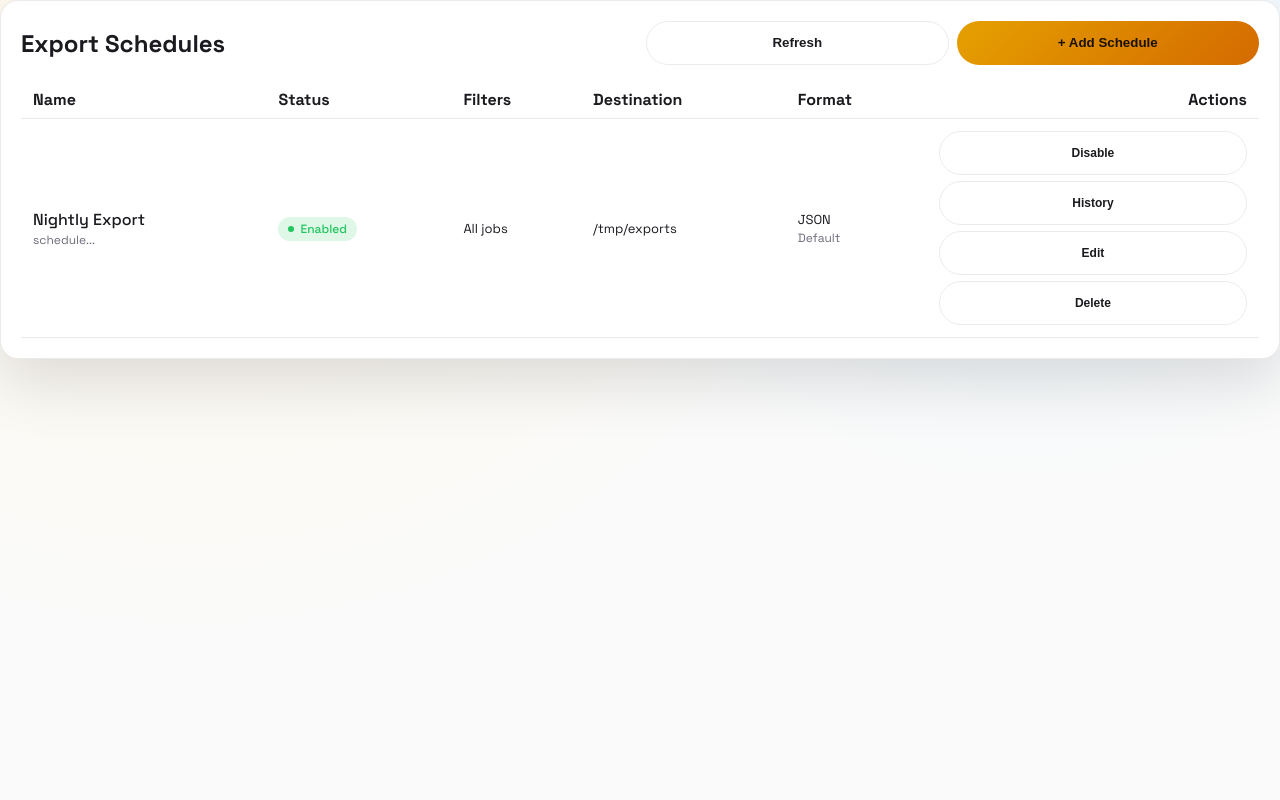
Test: ExportScheduleManager › loads and displays guided export history when History is clicked
Click the button "History" at (1093, 203), box x1=939 y1=181 x2=1247 y2=225
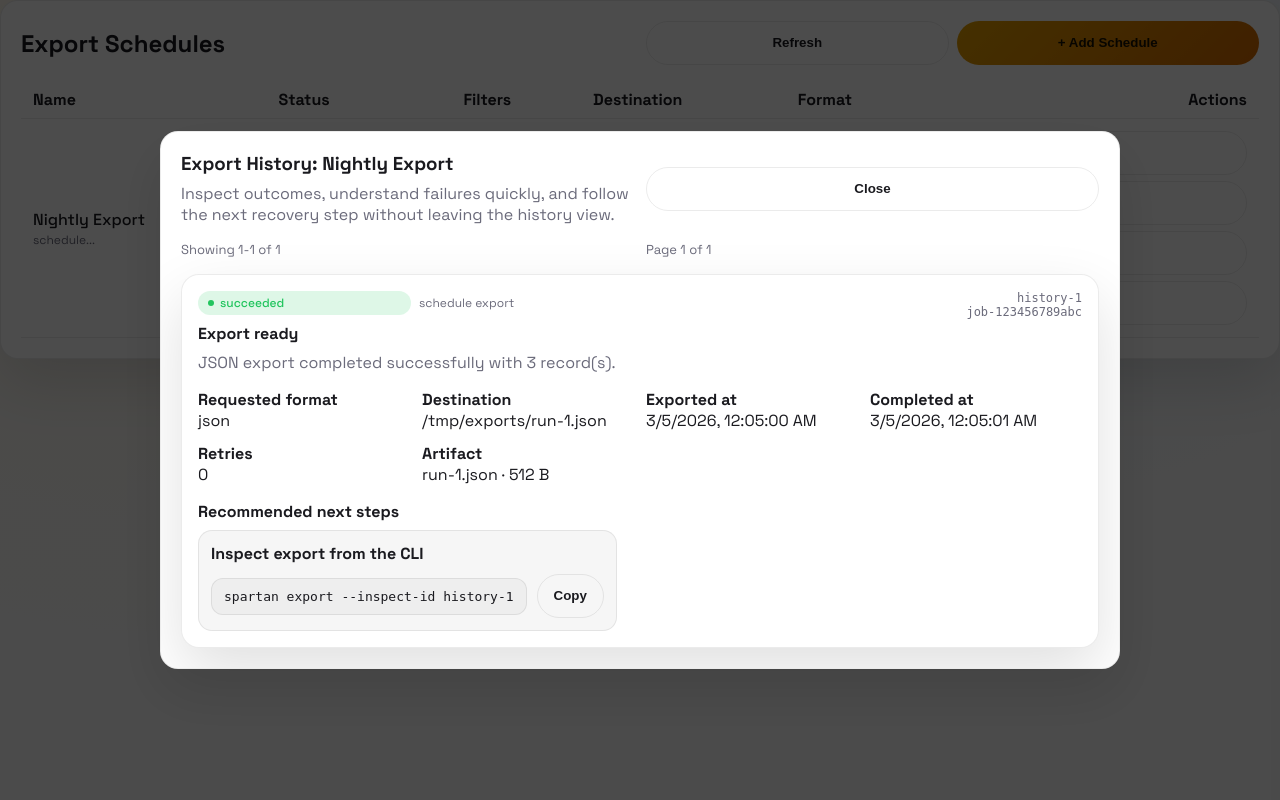
Expected: the heading "Export History: Nightly Export" is shown, x1=181 y1=152 x2=454 y2=175
Expected: the heading "Export ready" is shown, x1=198 y1=323 x2=298 y2=344
Expected: the text "succeeded" is shown, x1=198 y1=291 x2=411 y2=315
